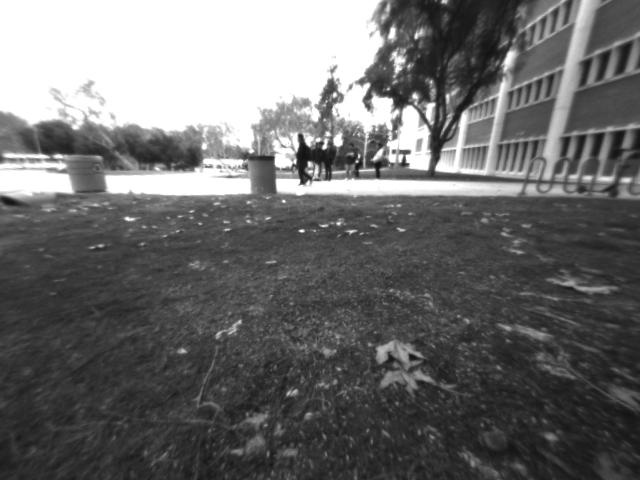trashcan: (65, 148, 112, 195), (246, 156, 276, 203)
